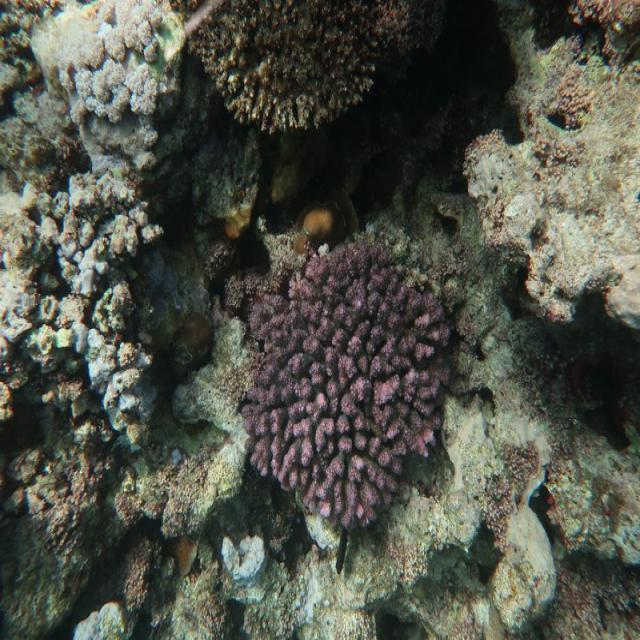Healthy Coral: (236, 224, 461, 535)
